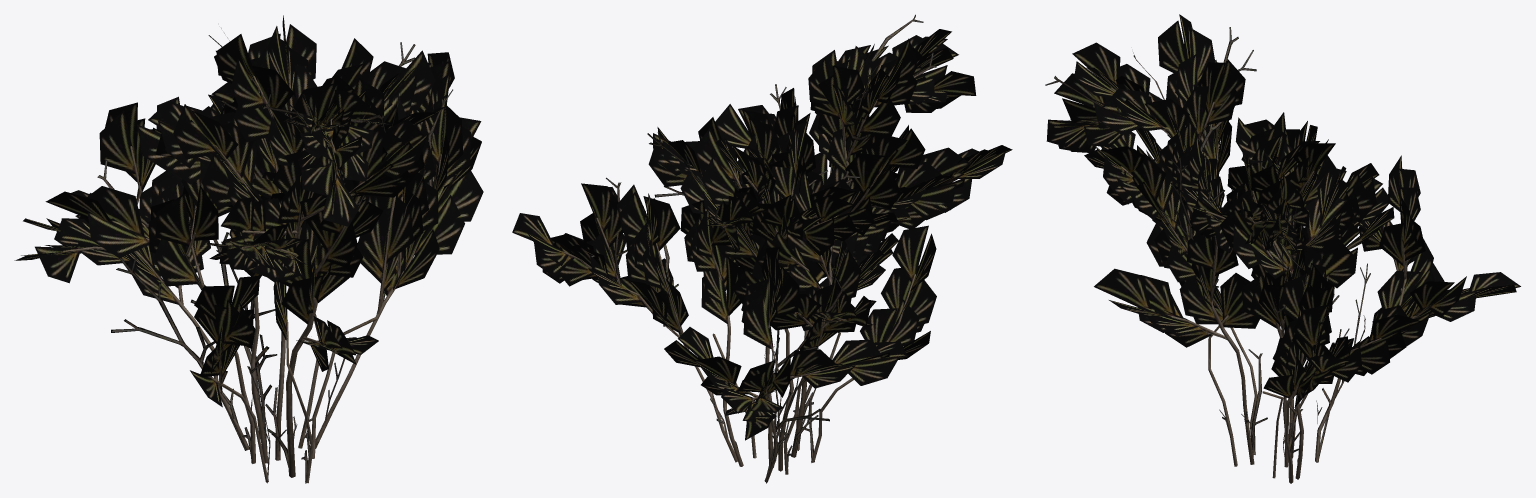
File: wild_rooibos_bush.glb
The picture shows the model from 3 angles, left to right: view 1: azimuth 30°, elevation 25°; view 2: azimuth 150°, elevation 25°; view 3: azimuth 270°, elevation 25°; orthographic projection. The views are drawn at different scales.
Visible parts, largest first — view 1: wild_rooibos_bush_c; view 2: wild_rooibos_bush_c; view 3: wild_rooibos_bush_c.
Boxes of the visible parts, left/top/right/bottom form: wild_rooibos_bush_c: left=14, top=15, right=483, bottom=483; wild_rooibos_bush_c: left=512, top=14, right=1012, bottom=483; wild_rooibos_bush_c: left=1045, top=14, right=1520, bottom=483.
Bounding box in the file's own units: 0.4254 × 0.4484 × 0.4721.
Materials: 2 (2 with a texture image).
